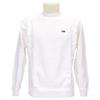abbigliamento_uomo: (12, 11, 89, 96)
